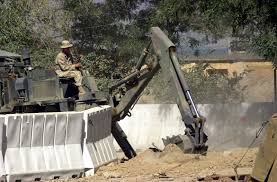excavator: (1, 25, 208, 155)
